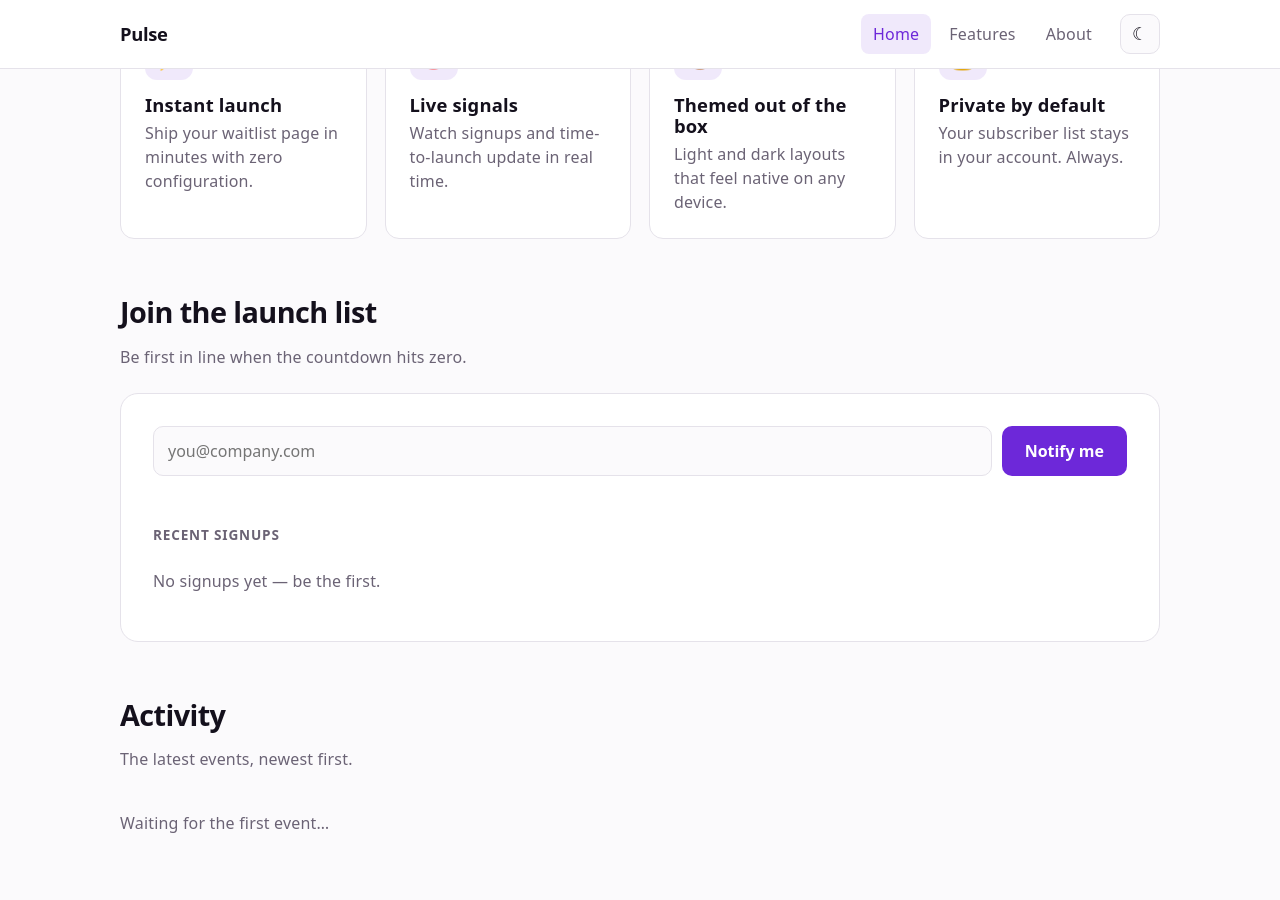
Test: Pulse landing app › adds a valid email to recent signups and updates stats/activity
(page scrolled)
Type "ada@example.com" into the field with id "email-input" at (572, 451), box [153, 426, 992, 476]
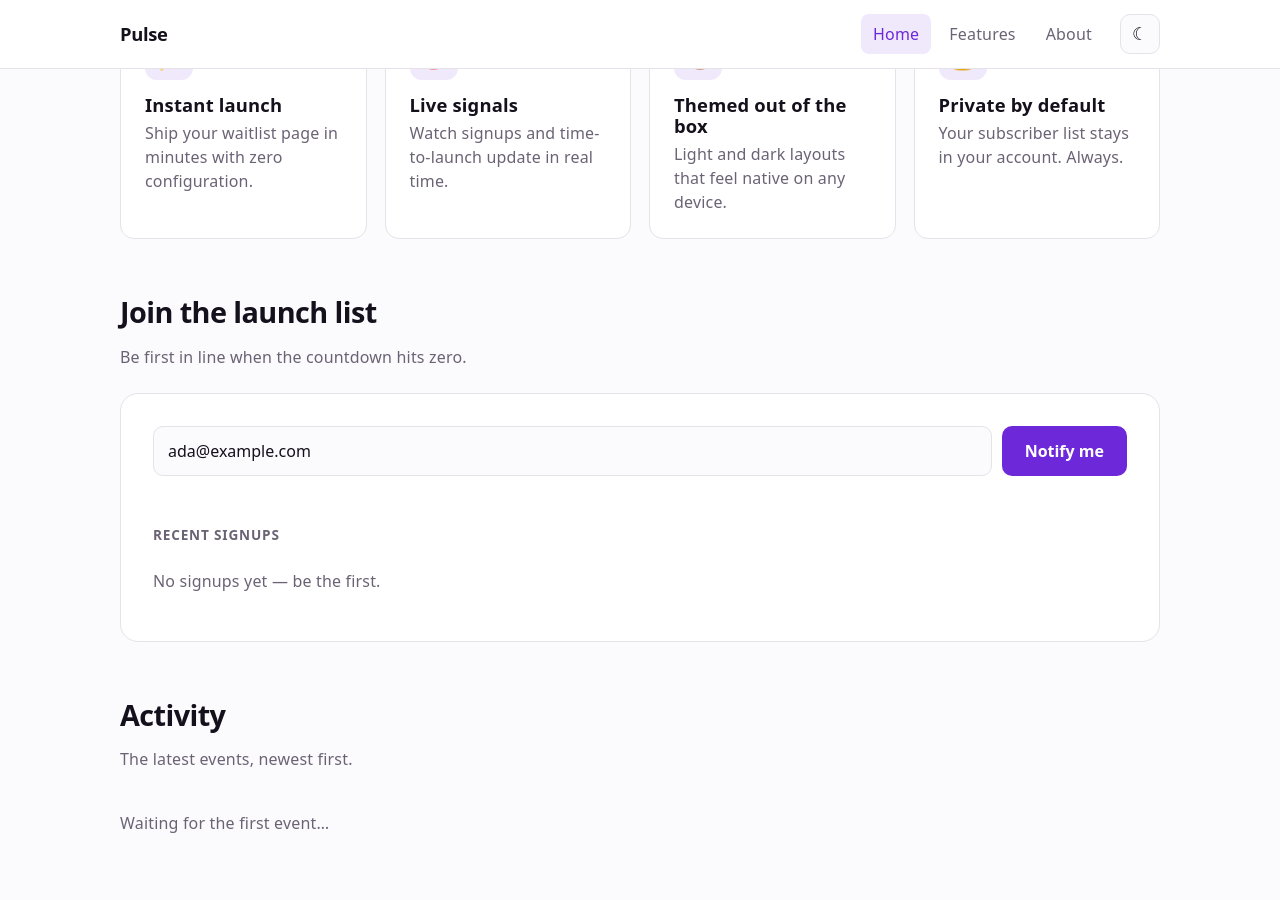
Submit the form with id "signup-form", box [153, 426, 1127, 476]
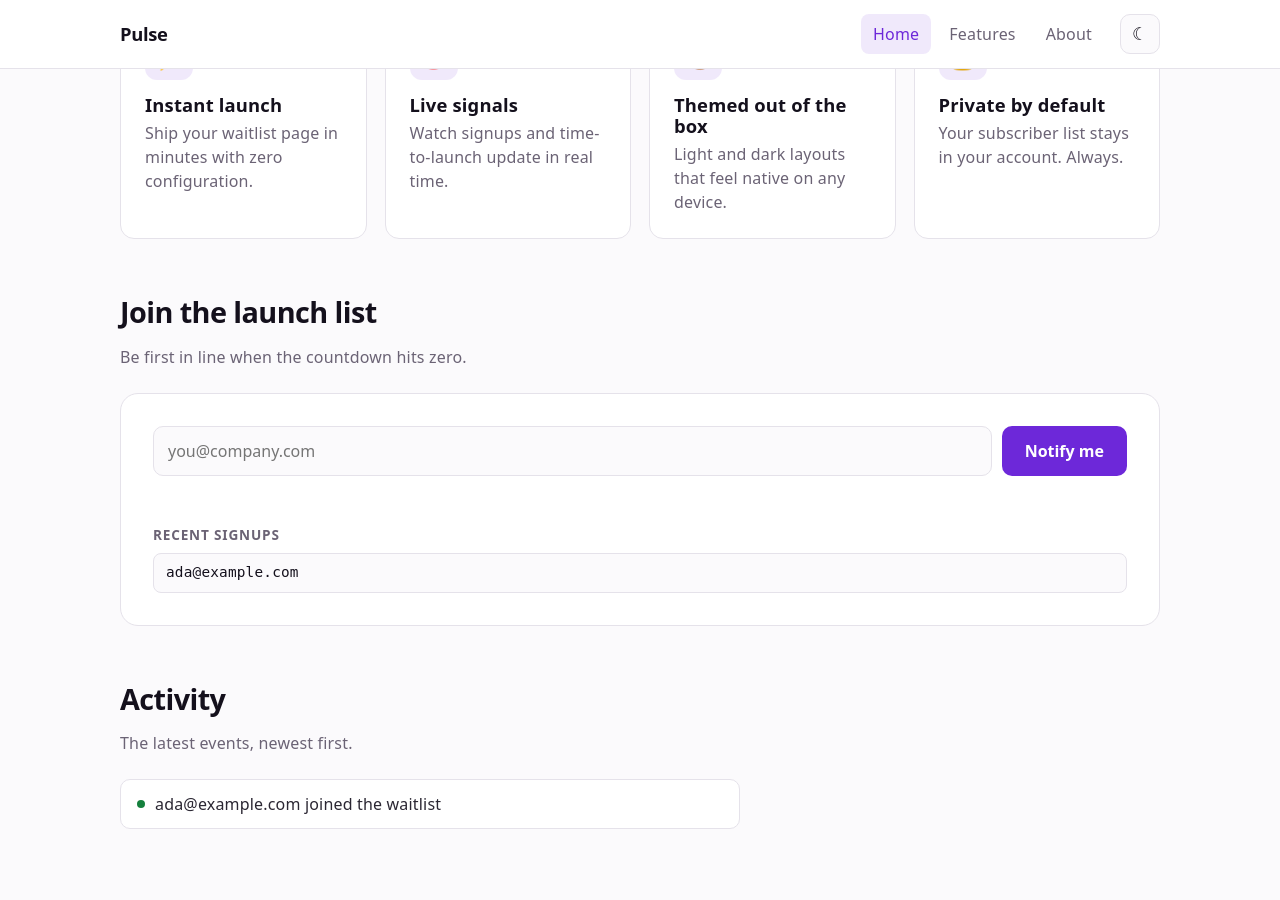
Expected: the list with id "signups" reads "ada@example.com", [166, 564, 299, 580]
Expected: the list item "ada@example.com joined the waitlist" is shown, [120, 779, 740, 829]
